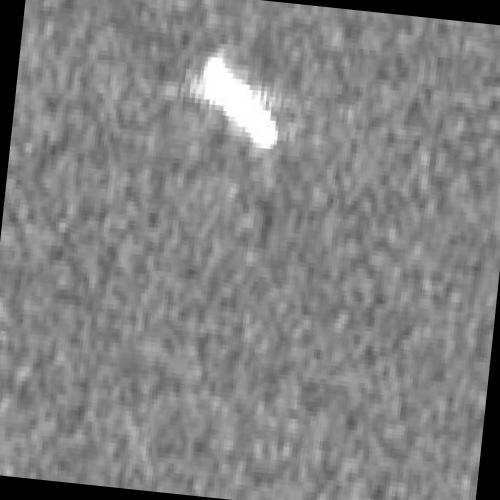ship: (195, 52, 279, 148)
